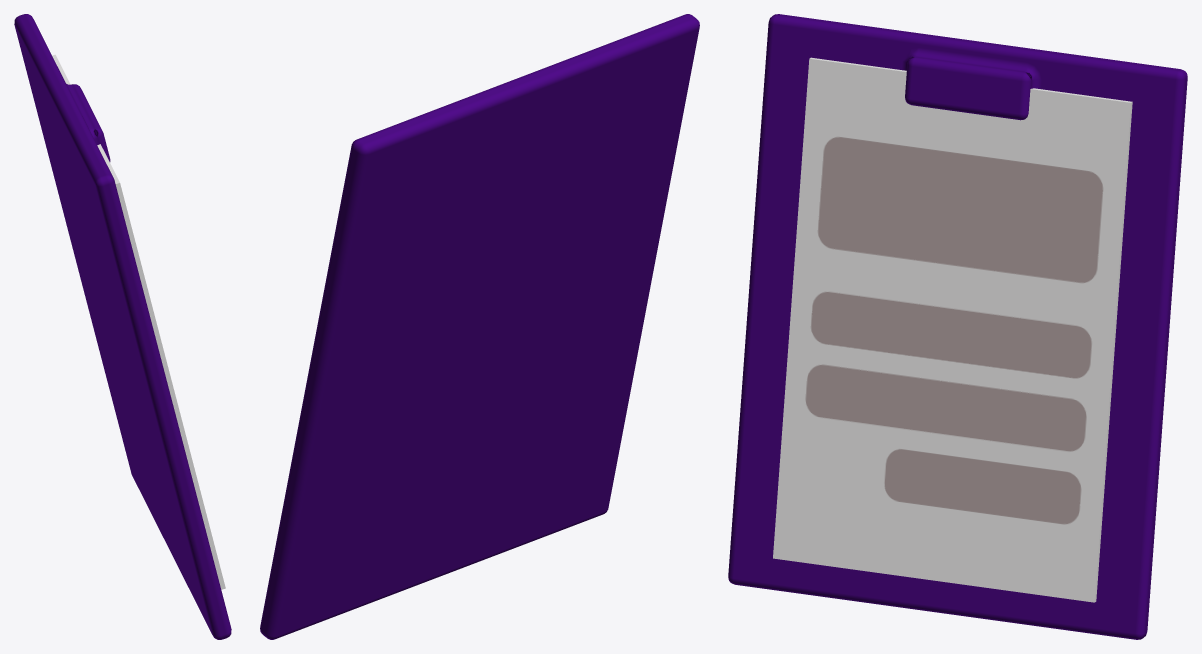
File: ClipBoard.glb
3 views of the same model, side by side, from view 1: azimuth 30°, elevation 25°; view 2: azimuth 150°, elevation 25°; view 3: azimuth 270°, elevation 25° (orthographic). The views are drawn at different scales.
Parts seen in each view (by area): view 1: Clipboard, Paper; view 2: Clipboard; view 3: Paper, Clipboard.
Boxes of the visible parts, left/top/right/bottom form: Clipboard: left=14, top=14, right=231, bottom=639; Paper: left=52, top=54, right=225, bottom=589; Clipboard: left=260, top=14, right=699, bottom=639; Paper: left=773, top=57, right=1132, bottom=602; Clipboard: left=728, top=14, right=1187, bottom=639.
Size of the model in its own units: 0.9422 by 1.95 by 1.57.
Materials: 2 (1 with a texture image).
